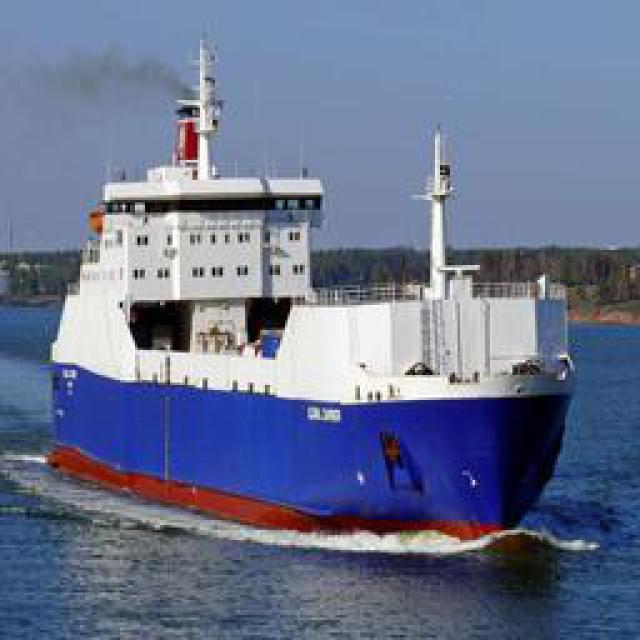Ship: (45, 16, 585, 556)
